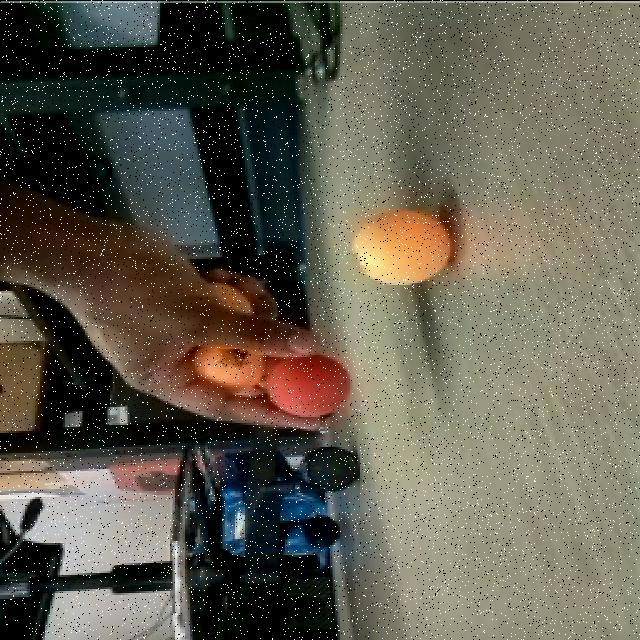ping-pong-ball: (343, 204, 456, 290), (264, 352, 354, 416), (190, 332, 270, 396)
